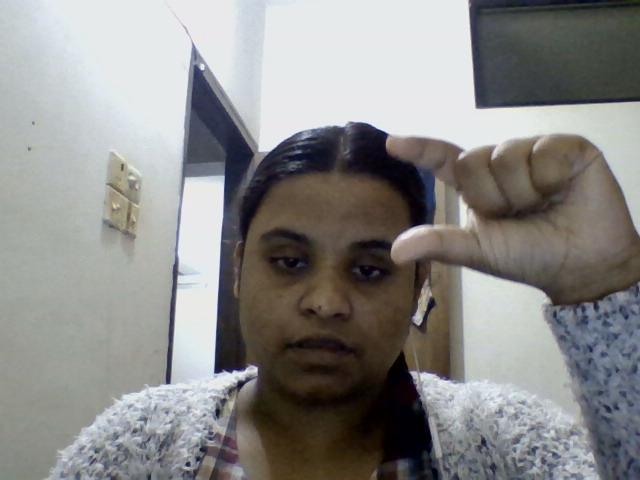No: (356, 91, 640, 349)
